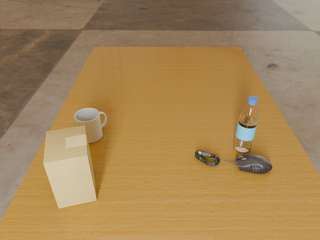bottle: (234, 96, 258, 153)
box: (43, 126, 97, 208)
cup: (74, 108, 107, 143)
mouse: (232, 155, 272, 174)
